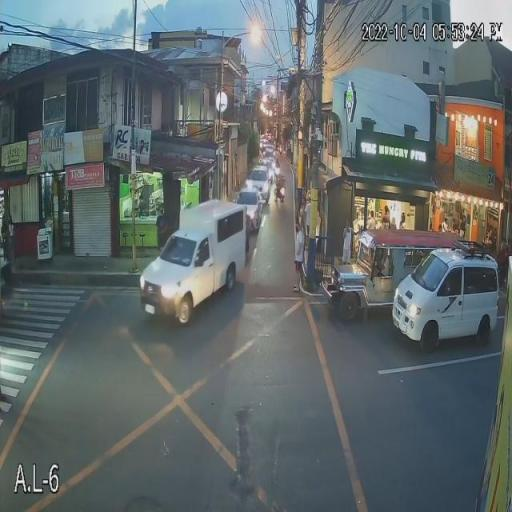motorcycle: (276, 190, 286, 205)
rider: (276, 179, 286, 195)
